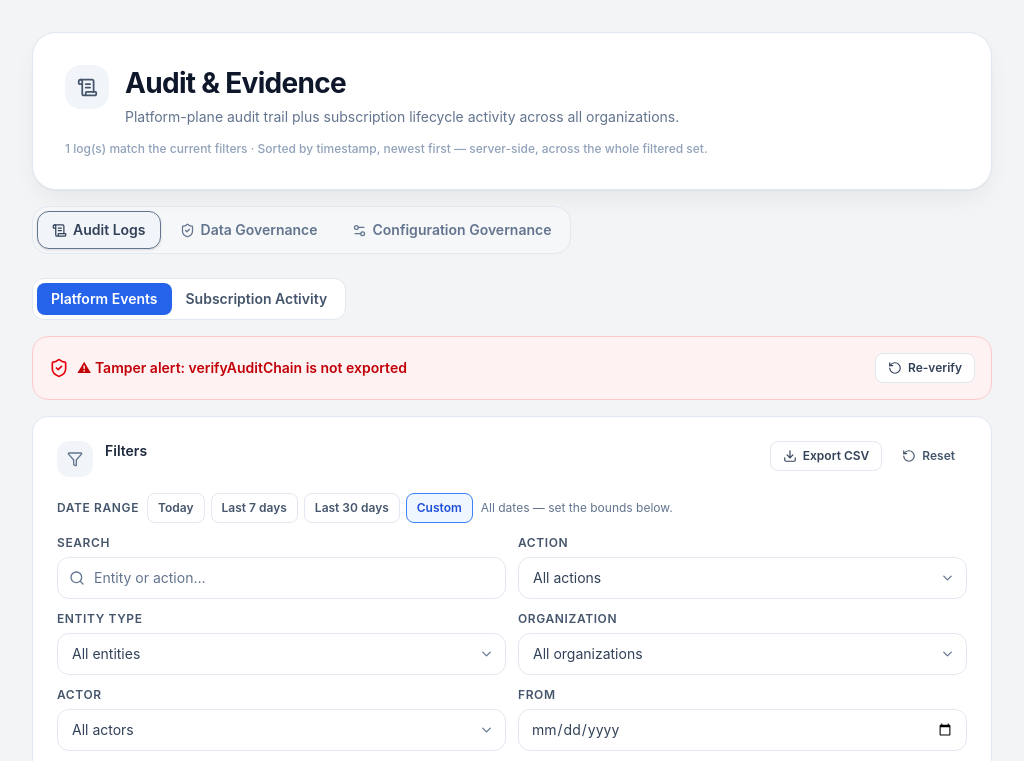
Test case: AuditLogsPage › switches the header to the tab the operator selected
Expected: the heading "Audit & Evidence" is shown, [125,66,346,100]
Click the tab "Configuration Governance": point(451, 230) [336,211,566,249]
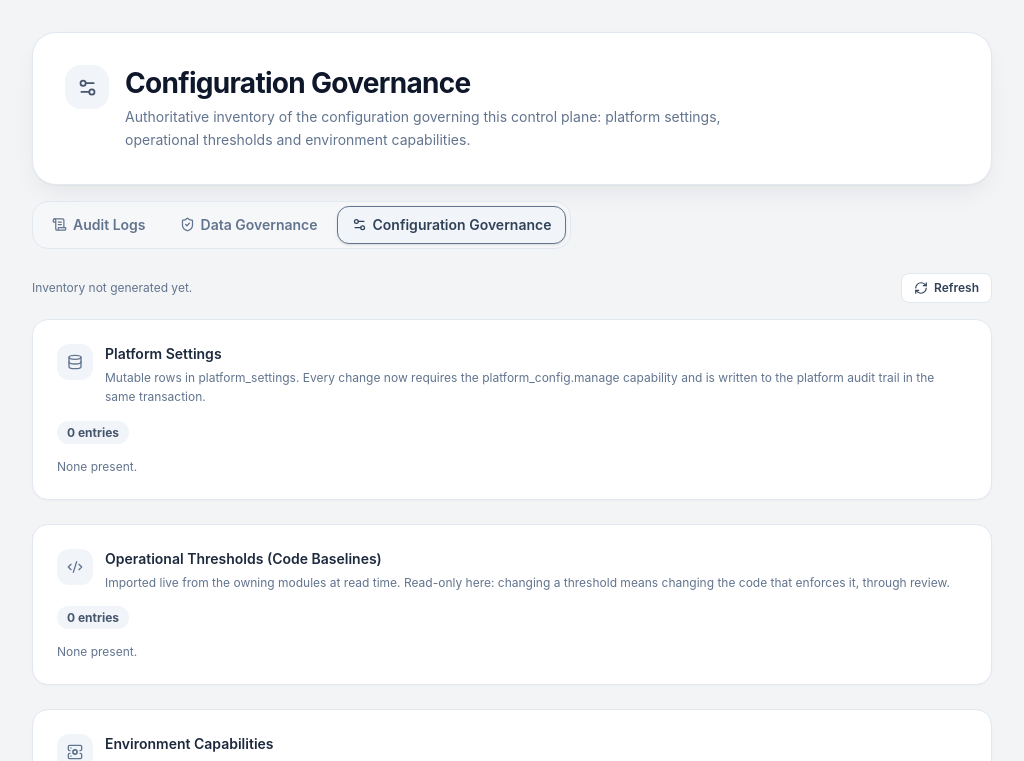
Expected: the heading "Configuration Governance" is shown, [125,66,470,100]
